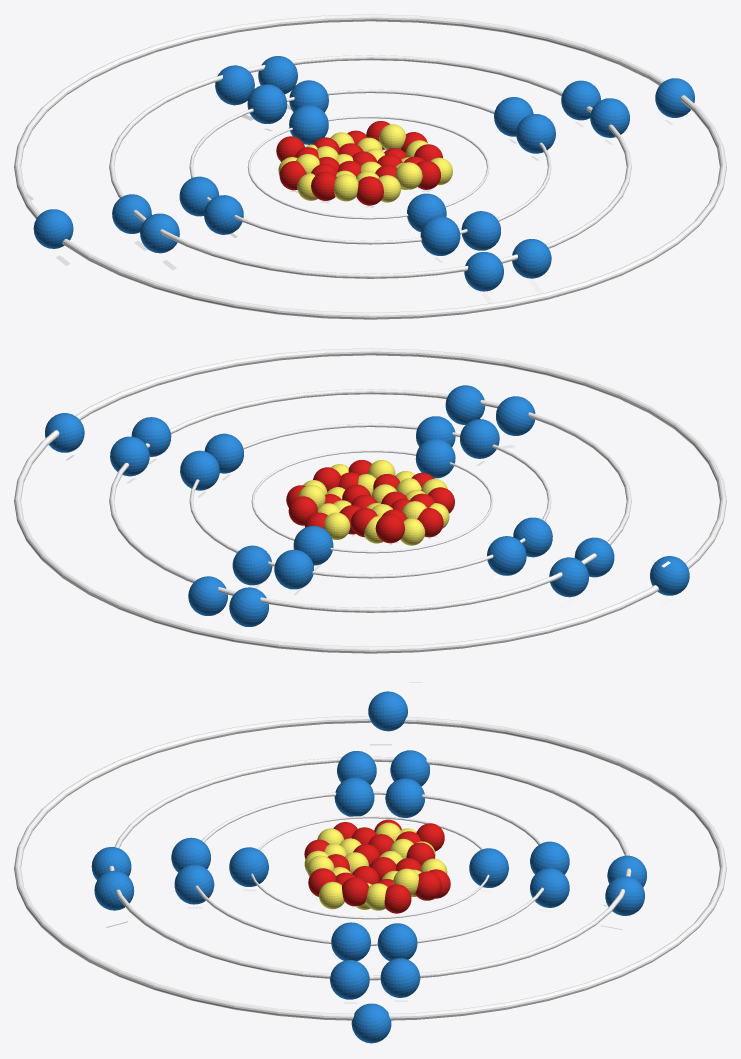
The picture shows the model from 3 angles, top to bottom: view 1: azimuth 30°, elevation 25°; view 2: azimuth 150°, elevation 25°; view 3: azimuth 270°, elevation 25°; orthographic projection.
Parts seen in each view (by area): view 1: Torus.004, Torus.003, Torus.002, Torus.001, -.008, -.004, -.005, -.002, -.017, -.003, -.013, -.019 (+19 smaller); view 2: Torus.004, Torus.003, Torus.002, Torus.001, -.004, -.009, -.008, -.006, -.007, -, -.017, -.016 (+17 smaller); view 3: Torus.004, Torus.003, Torus.002, Torus.001, -.015, -.010, -.018, -.019, -.003, -.006, -.002, -.001 (+15 smaller).
Part boxes in pixels (x1,y1,x2,y2): Torus.004: (14, 14, 726, 319); Torus.003: (109, 55, 631, 278); Torus.002: (189, 89, 551, 244); Torus.001: (247, 116, 489, 219); -.008: (420, 216, 460, 255); -.004: (247, 84, 287, 123); -.005: (461, 211, 500, 250); -.002: (516, 114, 555, 153); -.017: (464, 252, 503, 291); -.003: (204, 195, 243, 234); -.013: (512, 239, 551, 278); -.019: (33, 209, 73, 248); Torus.004: (14, 348, 726, 653); Torus.003: (109, 389, 631, 612); Torus.002: (189, 423, 551, 578); Torus.001: (251, 450, 493, 553); -.004: (274, 549, 313, 589); -.009: (232, 545, 272, 585); -.008: (460, 419, 499, 458); -.006: (487, 536, 526, 575); -.007: (180, 450, 219, 490); -: (415, 438, 455, 478); -.017: (496, 396, 535, 435); -.016: (229, 587, 268, 626); Torus.004: (14, 715, 726, 1020); Torus.003: (109, 756, 631, 980); Torus.002: (195, 791, 543, 945); Torus.001: (251, 816, 489, 919); -.015: (330, 960, 369, 999); -.010: (380, 958, 420, 997); -.018: (351, 1003, 391, 1043); -.019: (368, 691, 407, 731); -.003: (334, 777, 374, 816); -.006: (385, 778, 424, 817); -.002: (331, 922, 370, 961); -.001: (469, 848, 508, 887).
Size of the model in its own units: 8.74 by 0.9451 by 8.33.
